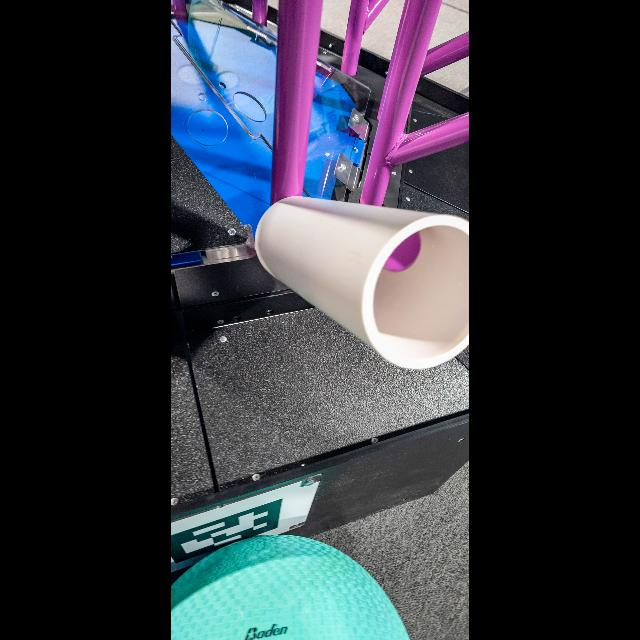ALGAE: (172, 536, 410, 640)
CORAL: (257, 198, 469, 370)
